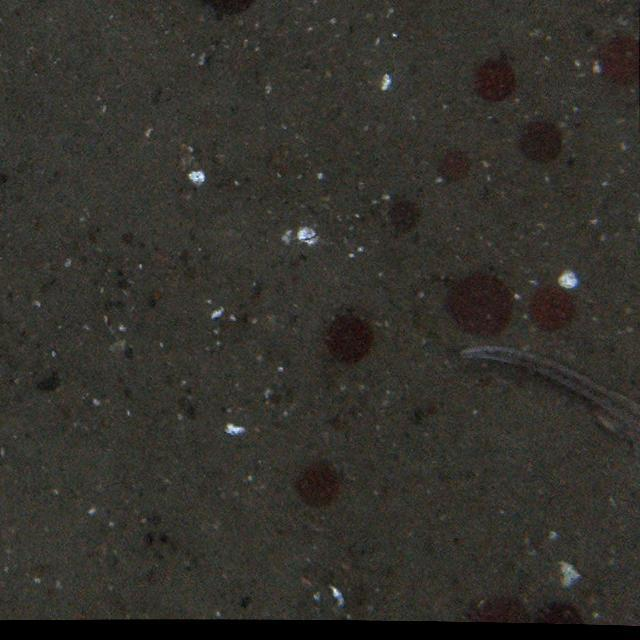skate: (444, 325, 640, 461)
